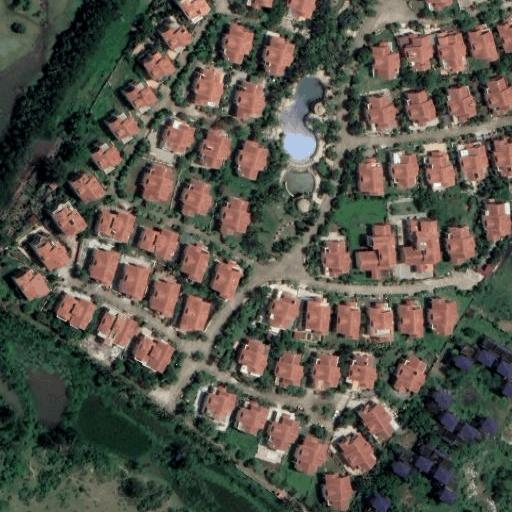building: (129, 327, 177, 374), (356, 225, 396, 278), (401, 221, 441, 273), (53, 291, 98, 333), (94, 307, 139, 349), (356, 401, 396, 445), (92, 209, 136, 246), (116, 260, 153, 302), (274, 127, 316, 164), (339, 433, 377, 473), (390, 354, 427, 395), (139, 226, 181, 262), (208, 258, 244, 300), (31, 236, 70, 274), (48, 203, 87, 241), (176, 293, 213, 333), (145, 278, 181, 319), (234, 139, 269, 181), (176, 242, 210, 284), (198, 128, 233, 168), (261, 36, 296, 76), (67, 171, 106, 206), (160, 119, 195, 158), (231, 80, 265, 120), (220, 24, 254, 64), (87, 245, 120, 286), (436, 30, 467, 73), (13, 268, 52, 302), (194, 68, 226, 109), (21, 129, 57, 165), (404, 89, 438, 127), (295, 437, 329, 474), (179, 179, 212, 217), (141, 166, 173, 205), (269, 291, 300, 331), (202, 386, 237, 421), (267, 416, 301, 452), (219, 197, 251, 235), (401, 34, 433, 72), (446, 86, 477, 125), (484, 75, 512, 118), (458, 144, 489, 182), (425, 151, 456, 189), (366, 95, 396, 134), (238, 340, 269, 377), (322, 474, 353, 511), (367, 303, 395, 342), (396, 300, 424, 339), (389, 152, 418, 189), (275, 353, 304, 390), (431, 298, 458, 337), (90, 144, 125, 174), (238, 402, 268, 437), (372, 42, 400, 79), (483, 204, 511, 241), (447, 226, 475, 263), (350, 353, 376, 391), (161, 22, 195, 51), (323, 242, 351, 277), (313, 354, 340, 390), (107, 110, 139, 140), (468, 30, 498, 62), (144, 54, 177, 83), (126, 83, 158, 112), (336, 302, 360, 340), (358, 162, 384, 196), (307, 299, 330, 337), (282, 169, 313, 194), (177, 0, 212, 22), (283, 0, 316, 22), (493, 139, 512, 177), (389, 457, 414, 481), (437, 408, 460, 431), (414, 453, 437, 476), (474, 346, 497, 369), (437, 487, 460, 510), (497, 21, 512, 54), (456, 420, 478, 442), (433, 465, 455, 487), (288, 194, 310, 216), (478, 416, 500, 437), (432, 388, 453, 408), (453, 353, 473, 374), (494, 358, 512, 380), (426, 0, 453, 13), (371, 496, 392, 512), (248, 0, 274, 10), (501, 382, 512, 401)
